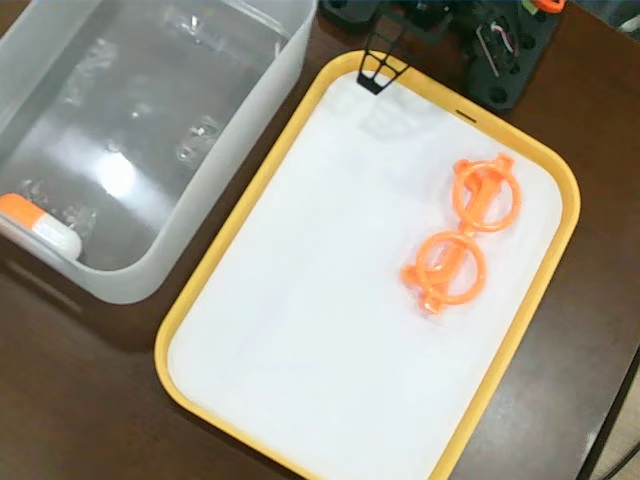pill: (0, 192, 83, 262)
